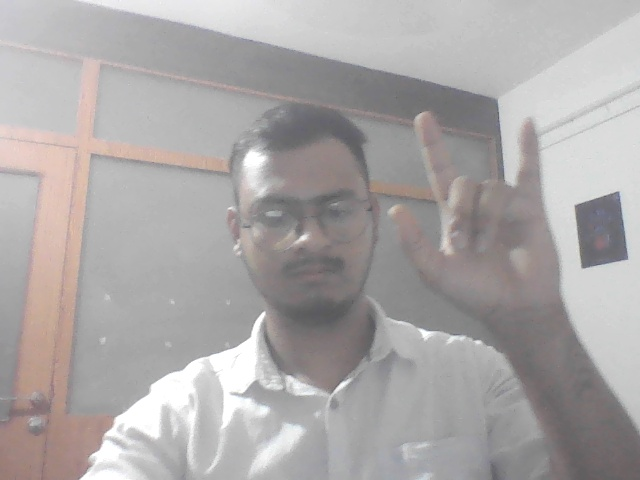I Love You: (375, 107, 584, 343)
